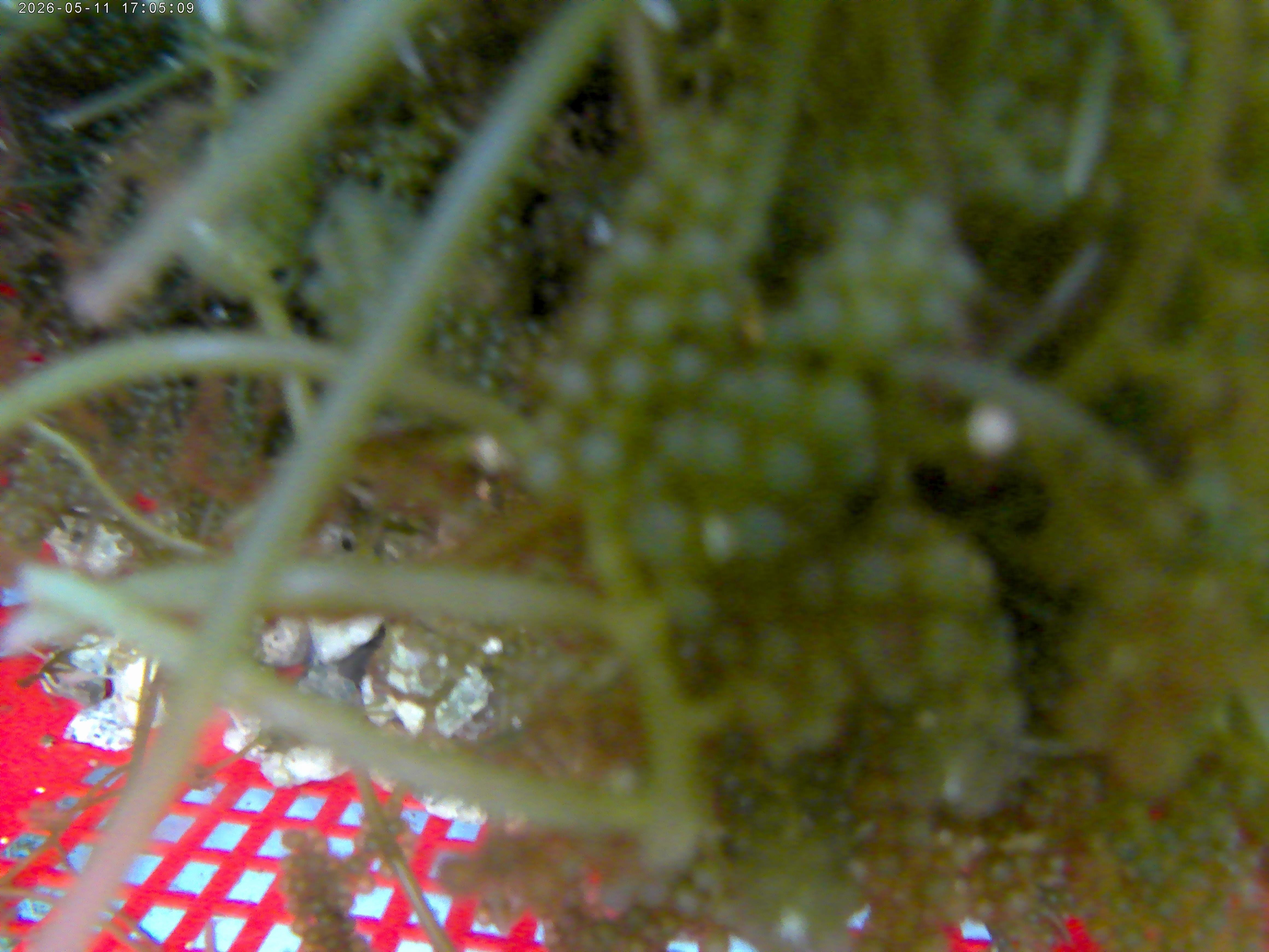Harvestable: (627, 488, 695, 568), (666, 222, 741, 291), (731, 495, 803, 566), (799, 373, 875, 440), (753, 430, 817, 498), (604, 347, 667, 413), (844, 294, 906, 360), (678, 166, 741, 230), (698, 416, 758, 483), (655, 408, 711, 475), (882, 233, 945, 289), (624, 293, 682, 353), (682, 282, 742, 340), (753, 361, 804, 429), (795, 298, 851, 355), (911, 288, 968, 344), (573, 433, 631, 487), (826, 237, 882, 292), (670, 344, 720, 402), (613, 229, 667, 282), (903, 196, 959, 243), (623, 178, 675, 228), (584, 254, 636, 303), (565, 302, 615, 352), (545, 363, 594, 413), (526, 454, 573, 504), (827, 437, 873, 484), (536, 401, 580, 450), (708, 122, 754, 167), (845, 199, 889, 245), (712, 371, 759, 414), (938, 255, 989, 294), (656, 143, 694, 194), (694, 860, 730, 901), (796, 263, 832, 301), (632, 881, 668, 907), (875, 851, 904, 879), (674, 889, 703, 916), (697, 929, 730, 952), (989, 860, 1014, 885), (715, 904, 741, 928), (848, 858, 872, 884), (854, 819, 879, 843), (497, 242, 521, 266), (973, 898, 997, 921), (1014, 854, 1037, 878), (597, 923, 619, 948), (656, 917, 679, 939), (497, 214, 519, 236), (625, 912, 650, 931), (362, 833, 384, 854), (1047, 853, 1069, 874), (458, 318, 479, 340), (935, 828, 956, 849), (437, 332, 458, 353), (833, 806, 855, 826), (346, 855, 367, 875), (558, 912, 579, 932), (478, 369, 498, 390), (385, 818, 405, 838), (483, 345, 504, 364), (308, 855, 327, 875), (356, 155, 376, 174), (968, 877, 988, 896), (307, 880, 327, 898), (290, 878, 308, 896), (307, 899, 325, 916), (578, 934, 596, 951), (324, 934, 341, 951), (350, 937, 369, 952), (627, 939, 648, 952), (292, 857, 309, 873), (341, 918, 357, 935), (1046, 890, 1062, 906), (305, 926, 320, 943), (1061, 891, 1076, 907), (1026, 910, 1040, 924)
